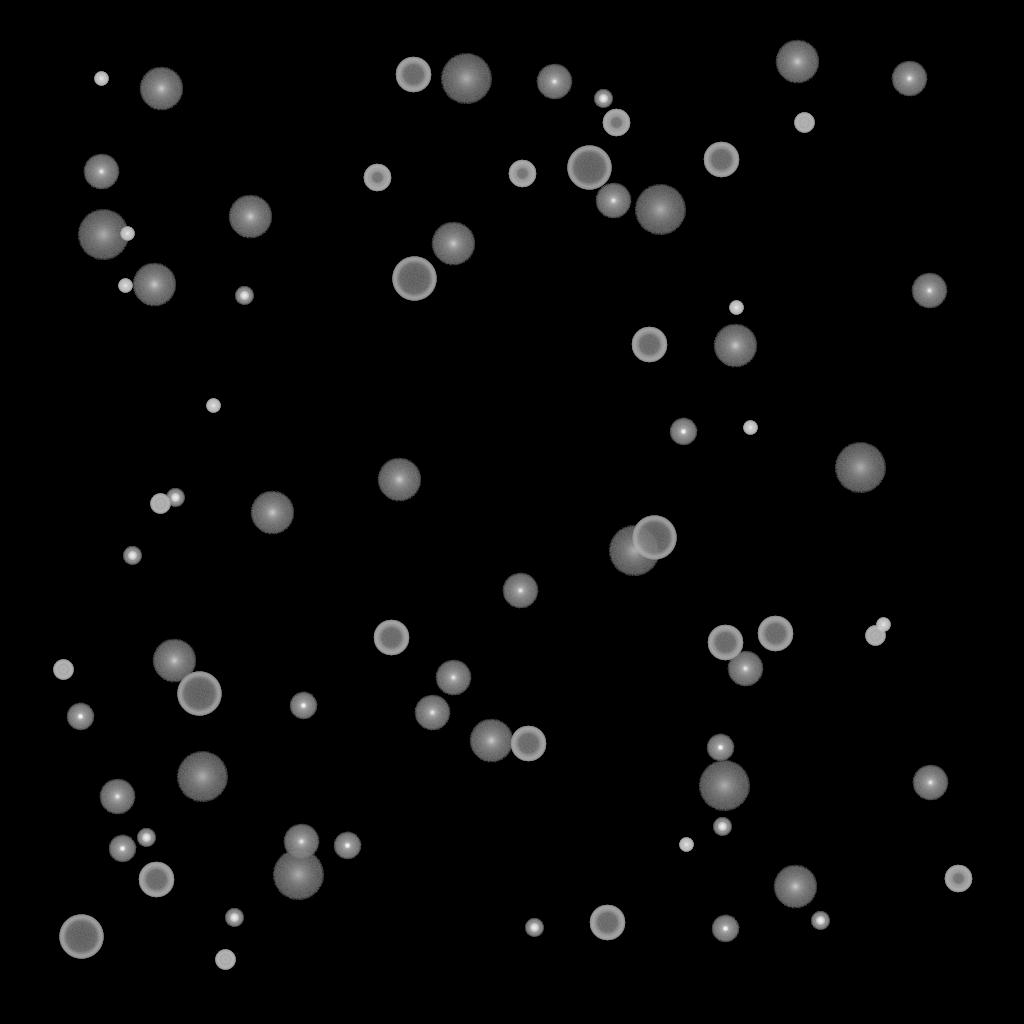depth:-10: (289, 692, 317, 720), (711, 915, 739, 943), (66, 703, 94, 731), (333, 832, 361, 860), (706, 734, 734, 762), (108, 835, 136, 863), (669, 418, 697, 446)
depth:-20: (166, 489, 184, 507), (123, 547, 141, 565), (137, 829, 155, 847), (235, 287, 253, 305), (594, 90, 612, 108), (713, 818, 731, 836), (525, 919, 543, 937), (811, 912, 829, 930), (225, 909, 243, 927)
depth:-30: (729, 301, 743, 315), (876, 618, 890, 632), (94, 72, 108, 86), (743, 421, 757, 435), (120, 227, 134, 241), (118, 279, 132, 293), (206, 399, 220, 413), (679, 838, 693, 852)
depth:-40: (865, 626, 885, 646), (150, 494, 170, 514), (53, 660, 73, 680), (215, 950, 235, 970), (794, 113, 814, 133)
depth:-50: (508, 160, 536, 188), (944, 865, 972, 893), (602, 109, 630, 137), (363, 164, 391, 192)
depth:-60: (703, 142, 739, 178), (757, 616, 793, 652), (395, 57, 431, 93), (138, 862, 174, 898), (707, 625, 743, 661), (373, 620, 409, 656), (510, 726, 546, 762), (631, 327, 667, 363), (589, 905, 625, 941)
depth:-70: (567, 146, 611, 190), (177, 672, 221, 716), (59, 915, 103, 959), (392, 257, 436, 301), (632, 516, 676, 560)
depth:0: (727, 651, 763, 687), (283, 824, 319, 860), (536, 64, 572, 100), (911, 273, 947, 309), (435, 660, 471, 696), (912, 765, 948, 801), (891, 61, 927, 97), (83, 154, 119, 190), (99, 779, 135, 815), (414, 695, 450, 731), (595, 183, 631, 219), (502, 573, 538, 609)
depth:10: (713, 324, 757, 368), (152, 639, 196, 683), (773, 865, 817, 909), (775, 40, 819, 84), (132, 263, 176, 307), (431, 222, 475, 266), (377, 458, 421, 502), (469, 719, 513, 763), (139, 67, 183, 111), (228, 195, 272, 239), (250, 491, 294, 535)
depth:20: (698, 761, 750, 811), (440, 54, 492, 104), (176, 752, 228, 802), (77, 210, 129, 260), (834, 443, 886, 493), (634, 185, 686, 235), (272, 850, 324, 900), (608, 526, 660, 576)
